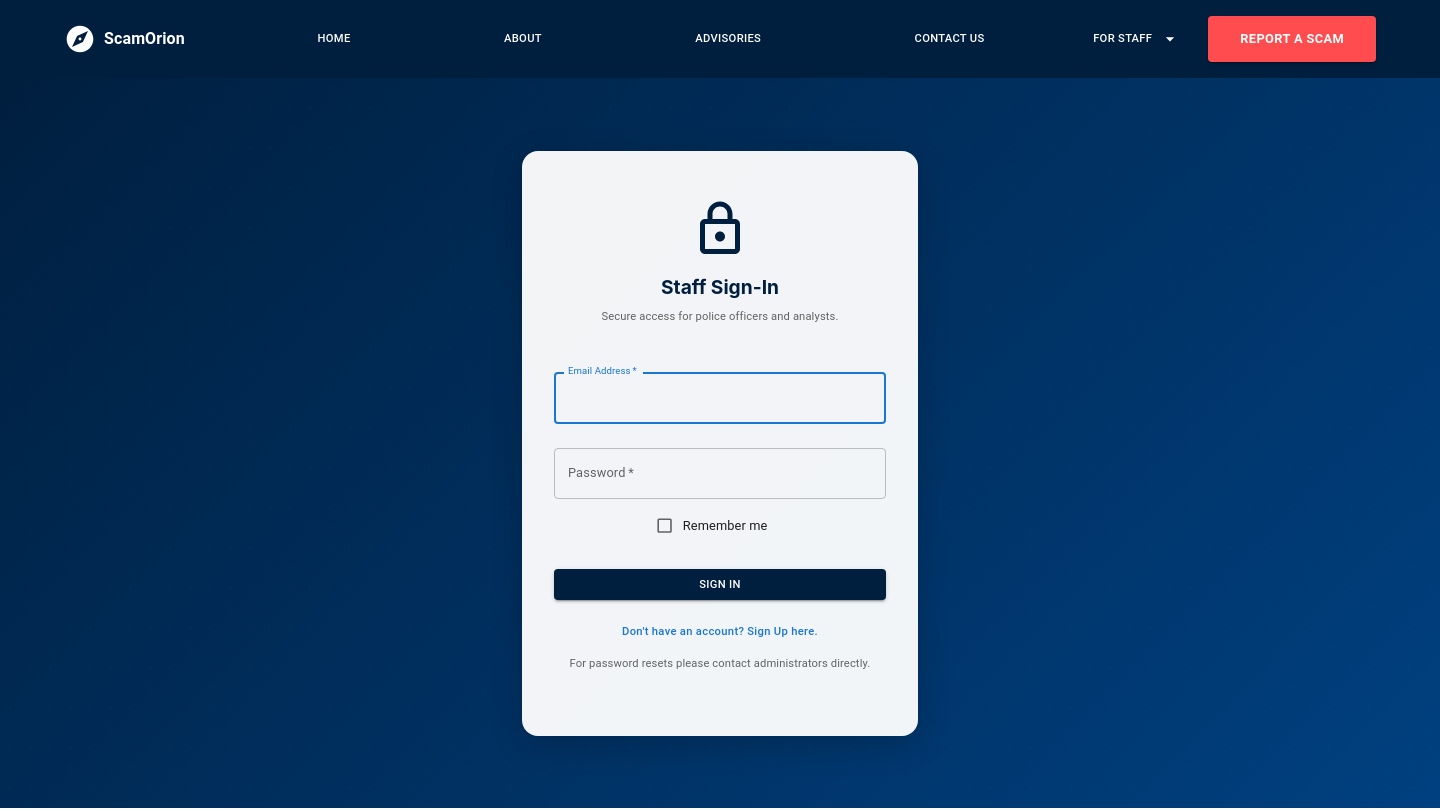
it: SignIn Page › handles submission error and shows error message
This screenshot has width=1440, height=810.
In the field labelled "Email Address *": (720, 398) [554,373,886,424], type "test@example.com"
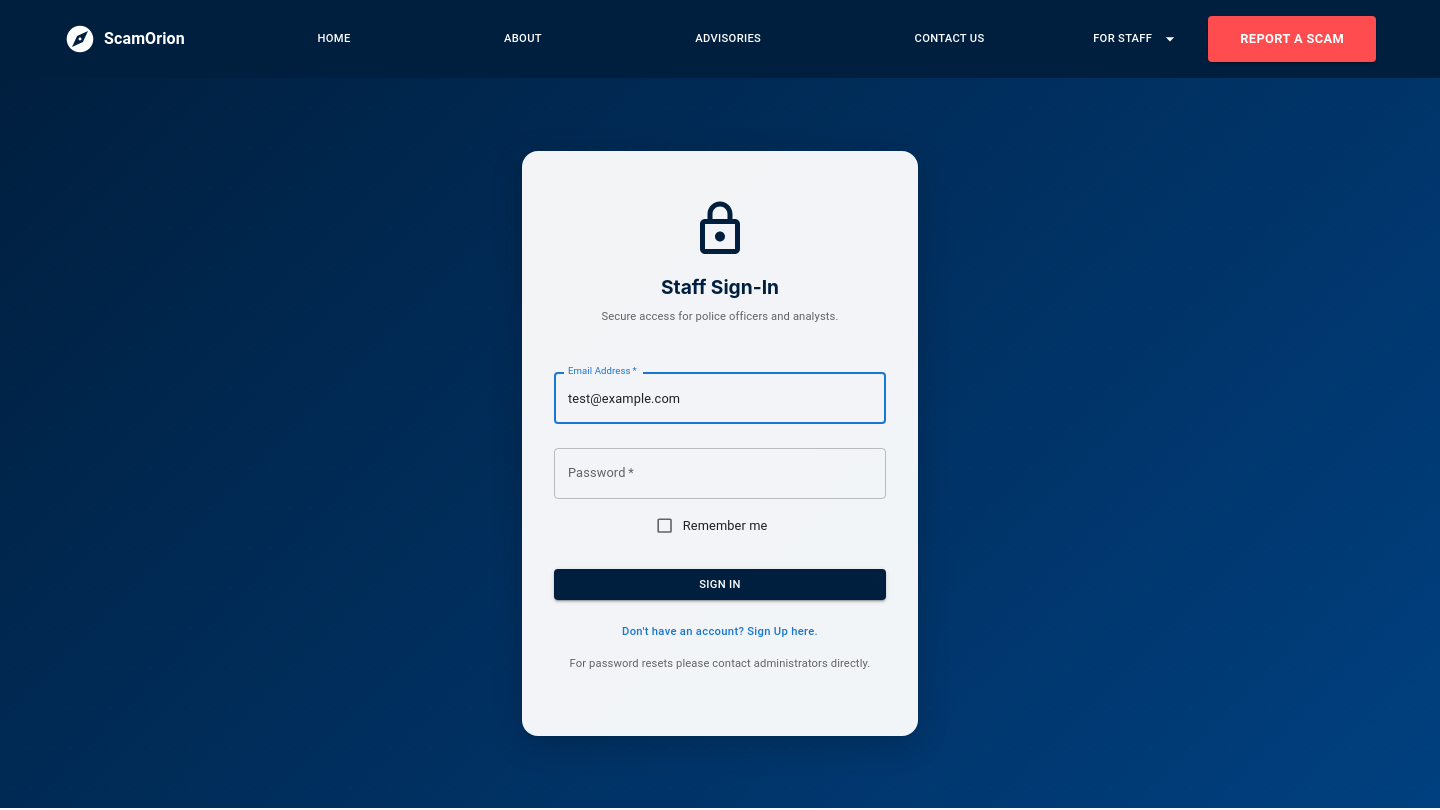
In the password field labelled "Password *": (720, 474) [554,448,886,499], type "wrongpass"
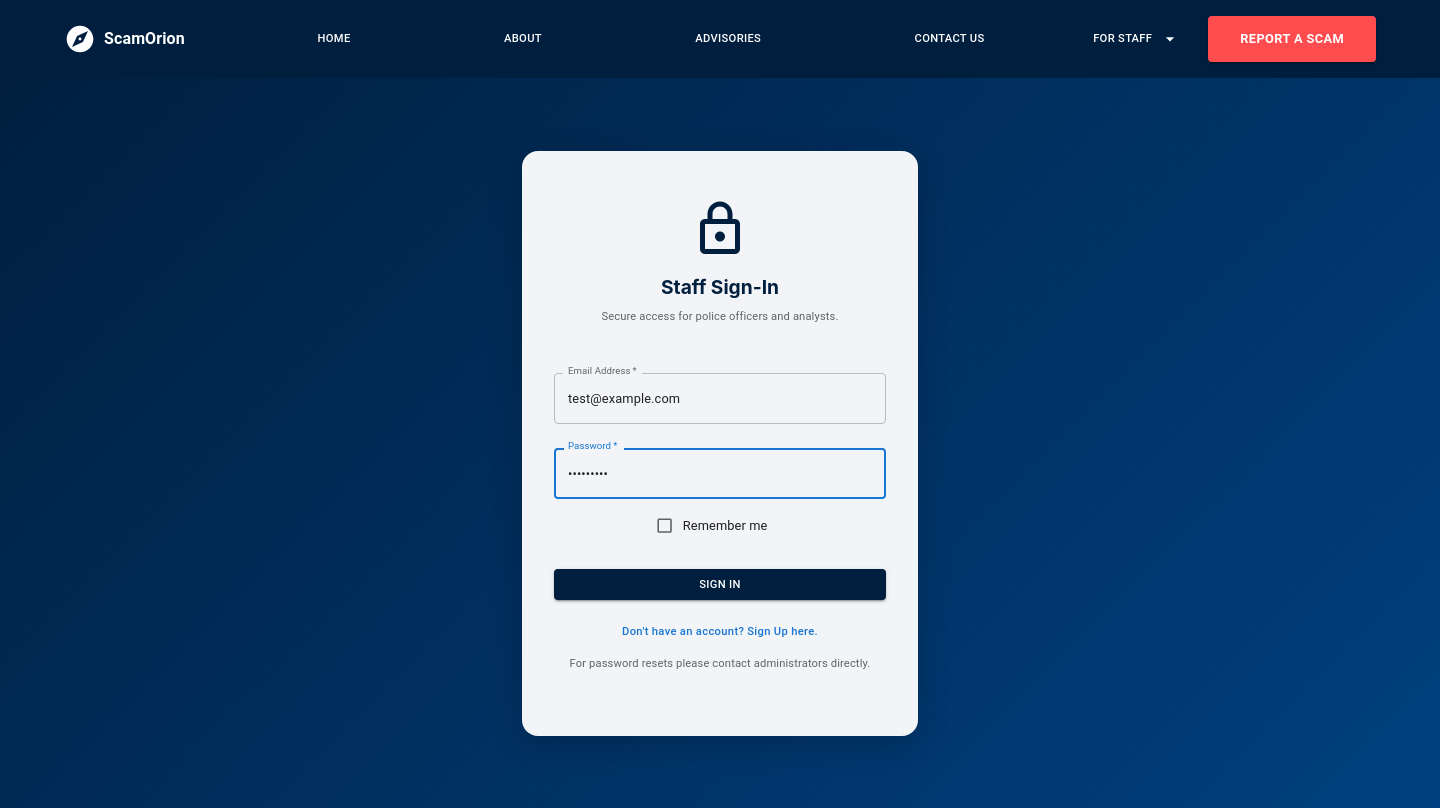
Click the button "Sign In": (720, 584) [554,569,886,600]
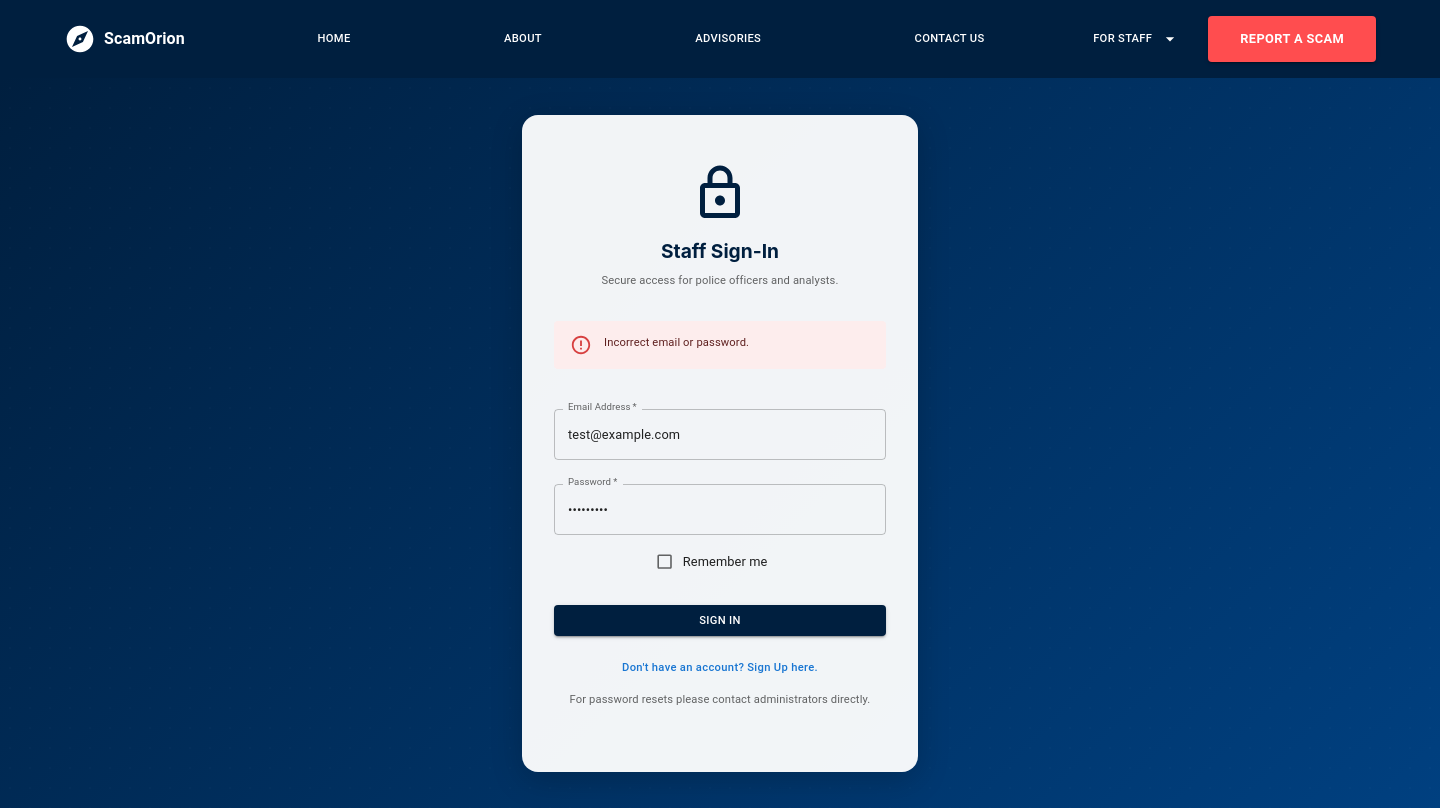
Expected: the button "Sign In" is enabled, [554,605,886,636]
Result: the text "Incorrect email or password." is shown at [604,336,749,349]
